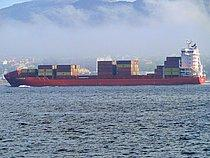Ship: (2, 35, 210, 89)
